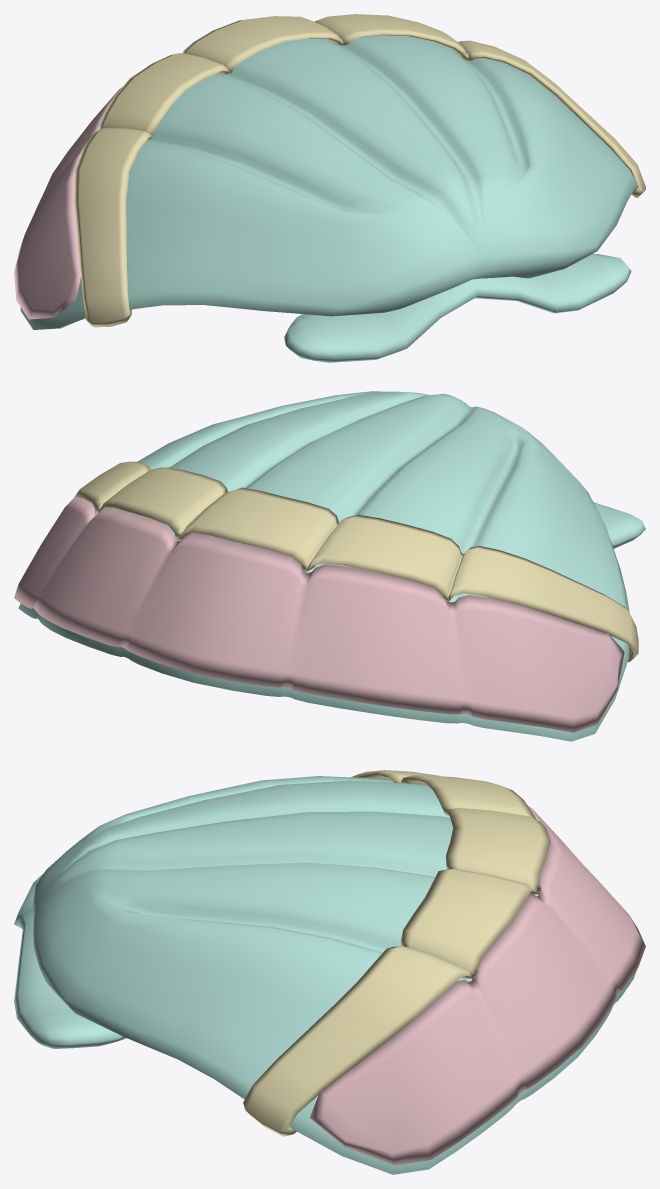
3 views of the same model, one above another, from view 1: azimuth 30°, elevation 25°; view 2: azimuth 150°, elevation 25°; view 3: azimuth 270°, elevation 25° (orthographic). The views are drawn at different scales.
Parts seen in each view (by area): view 1: shanbei; view 2: shanbei; view 3: shanbei.
Boxes of the visible parts, x1,y1,x2,y2 form: shanbei: (14, 14, 645, 362); shanbei: (14, 391, 645, 741); shanbei: (14, 770, 645, 1174).
Size of the model in its own units: 10.4 by 3.43 by 9.41.
